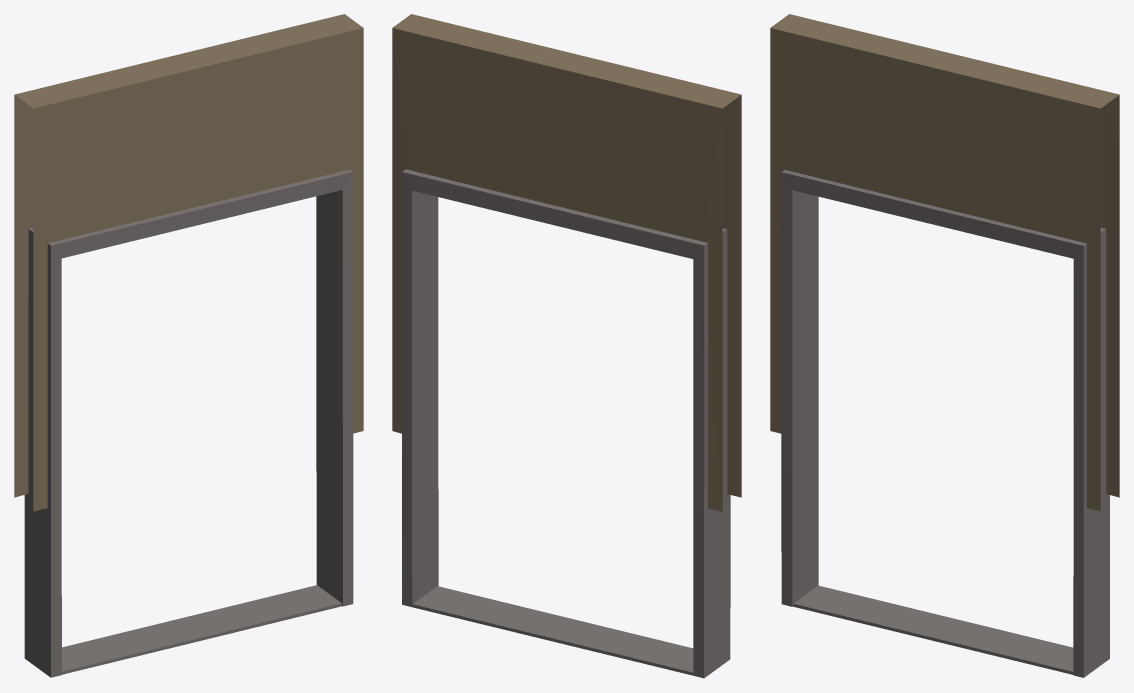
File: SM_DoorFrame_B_200.fbx
3 renders of one model, left to right at view 1: azimuth 30°, elevation 25°; view 2: azimuth 150°, elevation 25°; view 3: azimuth 330°, elevation 25°, orthographic.
Parts seen in each view (by area): view 1: SM_DoorFrame_B_200; view 2: SM_DoorFrame_B_200; view 3: SM_DoorFrame_B_200.
Boxes of the visible parts, left/top/right/bottom form: SM_DoorFrame_B_200: left=14, top=14, right=363, bottom=677; SM_DoorFrame_B_200: left=392, top=14, right=741, bottom=678; SM_DoorFrame_B_200: left=770, top=14, right=1119, bottom=677.
Bounding box in the file's own units: 200 × 330 × 27.86.
4 materials, 4 textured.
